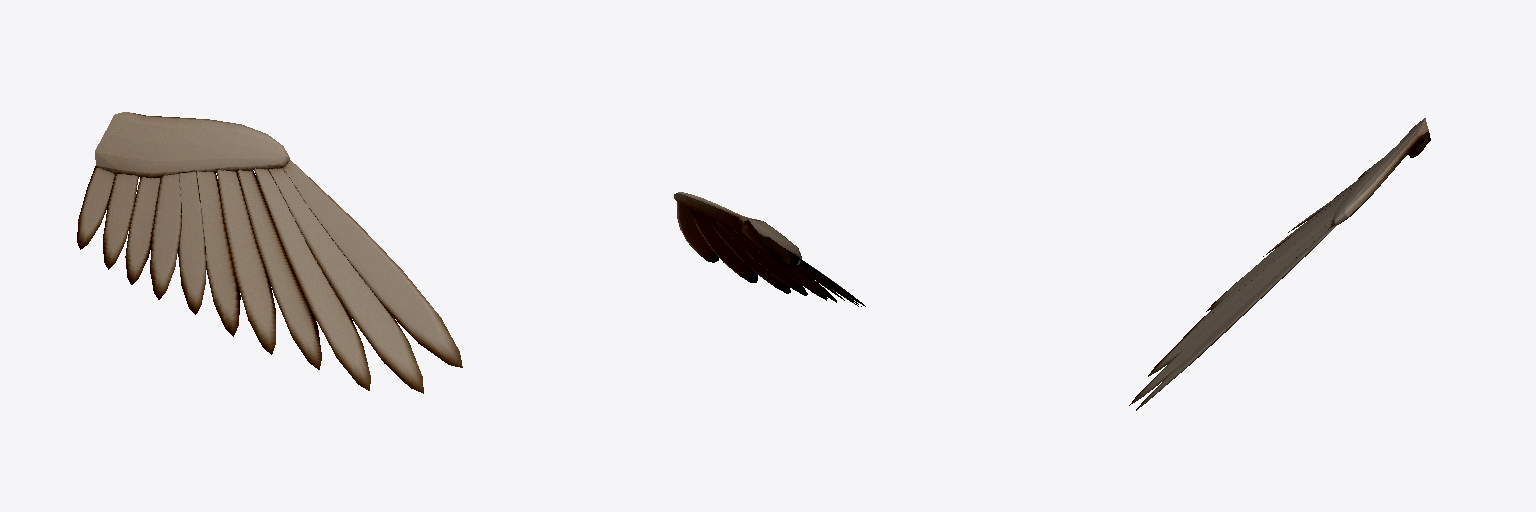
The picture shows the model from 3 angles: view 1: azimuth 30°, elevation 25°; view 2: azimuth 150°, elevation 25°; view 3: azimuth 270°, elevation 25°; orthographic projection.
Visible parts, largest first — view 1: Cube.001_Cube.003; view 2: Cube.001_Cube.003; view 3: Cube.001_Cube.003.
Boxes of the visible parts, box(x1,y1,x2,y2) form: Cube.001_Cube.003: box(77, 112, 462, 393); Cube.001_Cube.003: box(674, 192, 865, 306); Cube.001_Cube.003: box(1129, 118, 1430, 410).
Size of the model in its own units: 6.15 by 4.5 by 5.87.
Materials: 1 (1 with a texture image).